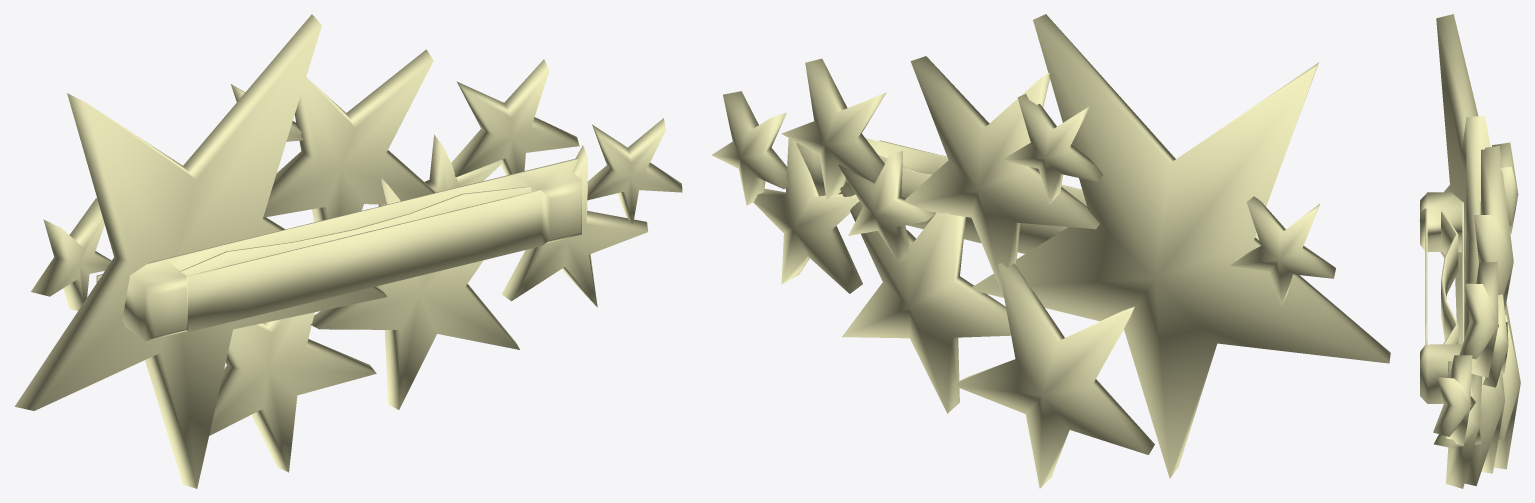
Rendered from kami_valletta_star.dae.
3 views of the same model, side by side, from view 1: azimuth 30°, elevation 25°; view 2: azimuth 150°, elevation 25°; view 3: azimuth 270°, elevation 25° (orthographic). The views are drawn at different scales.
Visible parts, largest first — view 1: o_valletta_star_0; view 2: o_valletta_star_0; view 3: o_valletta_star_0.
Part boxes in pixels (x1,y1,x2,y2): o_valletta_star_0: (15,14,682,488); o_valletta_star_0: (711,14,1390,488); o_valletta_star_0: (1419,14,1520,488).
Size of the model in its own units: 0.0628 by 0.0104 by 0.0407.
